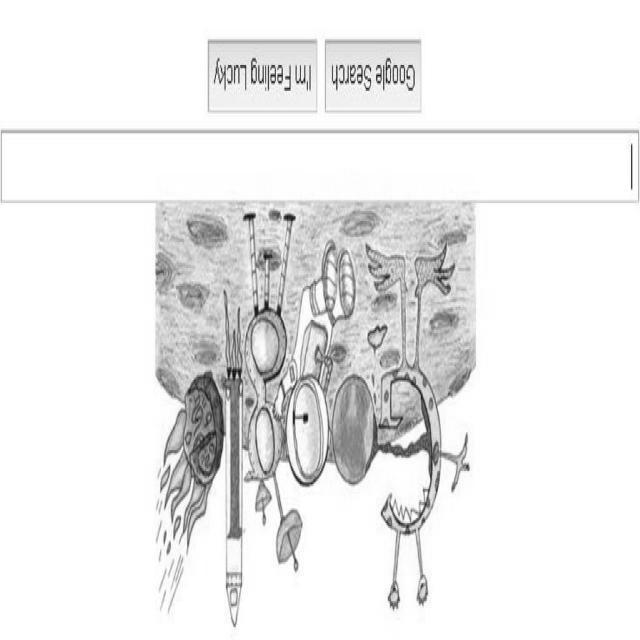missile: (222, 373, 245, 632)
